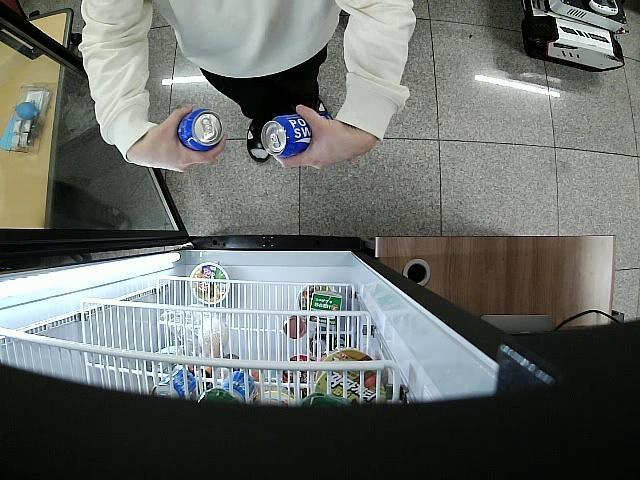13_pocariSweat: (260, 114, 314, 158), (178, 110, 223, 154)
